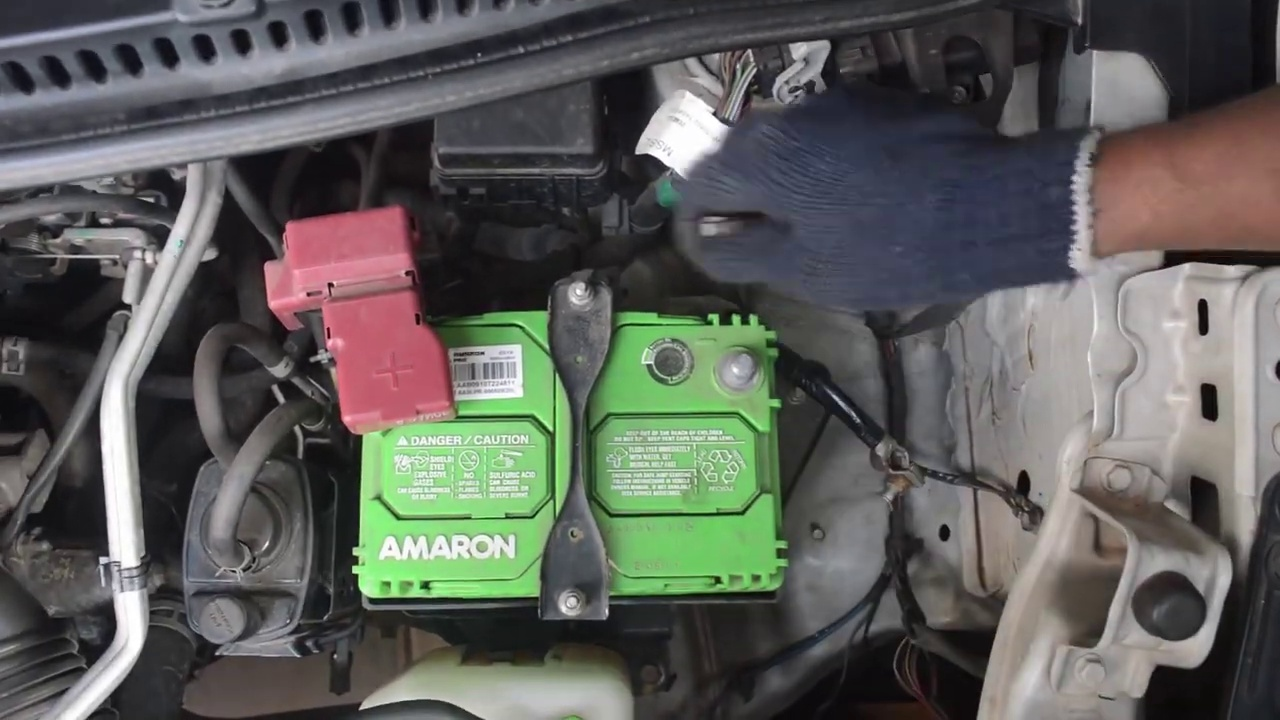battery: (331, 287, 783, 593)
neg_disconnected: (693, 328, 786, 405)
pos_connected: (315, 211, 462, 431)
